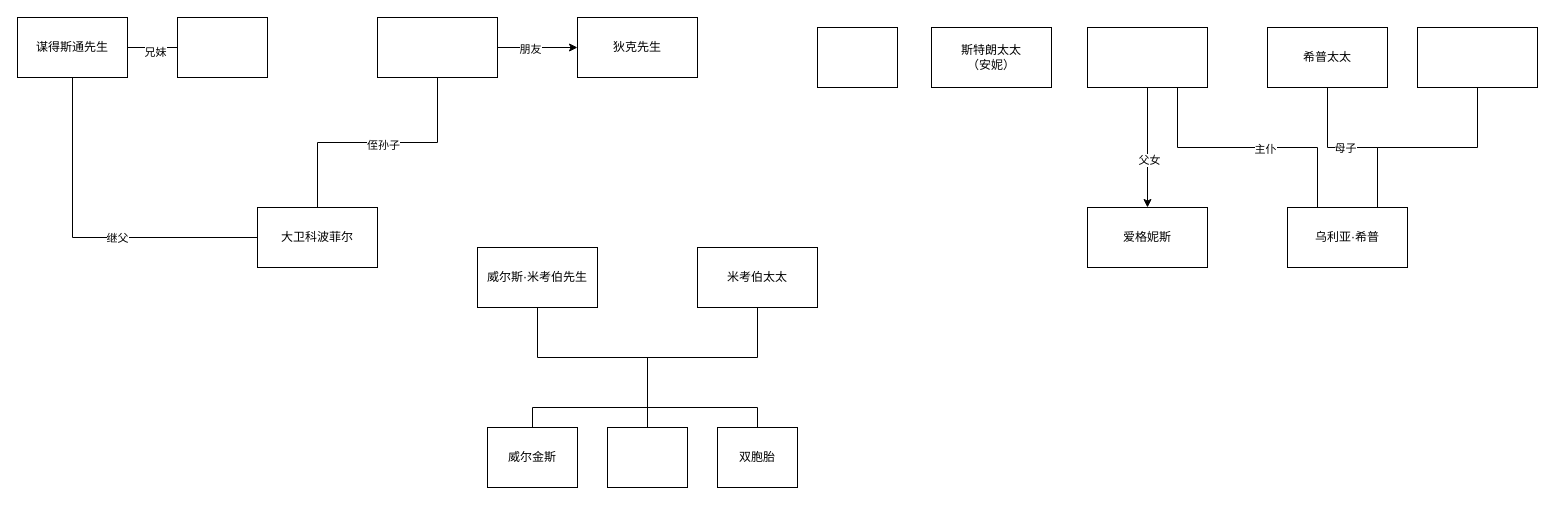
The diagram is 1555 pixels wide and 505 high, and some of its shapes have lost their labels. Each missing label, with the centre of its shape:
妹妹: the point at 647,457
姨婆: the point at 437,47
威克菲尔: the point at 1147,57
希普先生: the point at 1477,57
斯特朗博士: the point at 857,57
谋得斯通小姐: the point at 222,47
